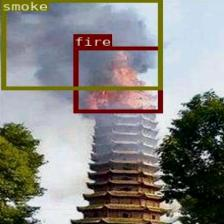fire: (73, 46, 161, 113)
smoke: (0, 0, 161, 89)
